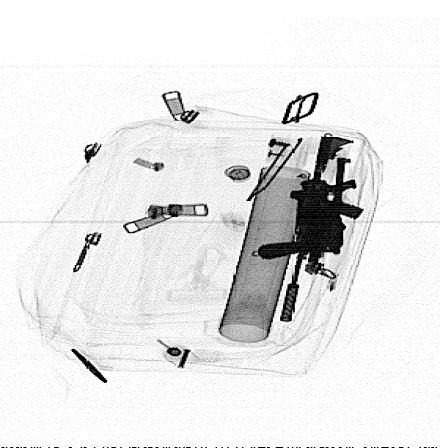Gun: (276, 136, 369, 327), (257, 155, 356, 262)
